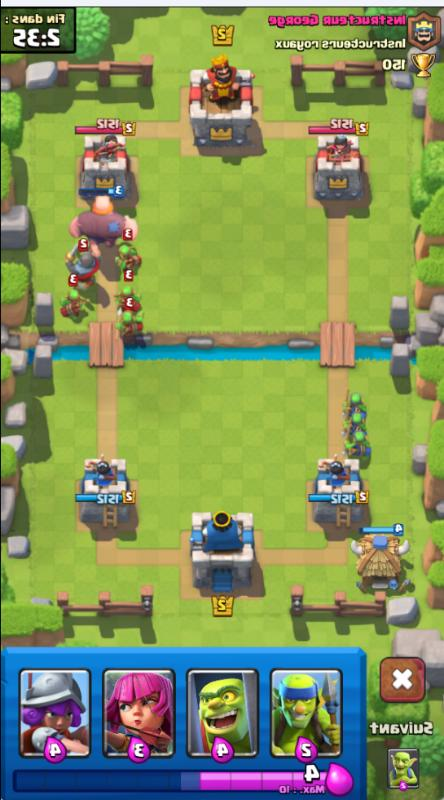chevalier: (66, 242, 98, 292)
geant: (69, 185, 136, 248)
gobelin_lances: (342, 429, 373, 465), (59, 287, 88, 325), (115, 240, 142, 278), (114, 282, 143, 316), (117, 309, 146, 341), (342, 386, 371, 416), (343, 411, 366, 437)
